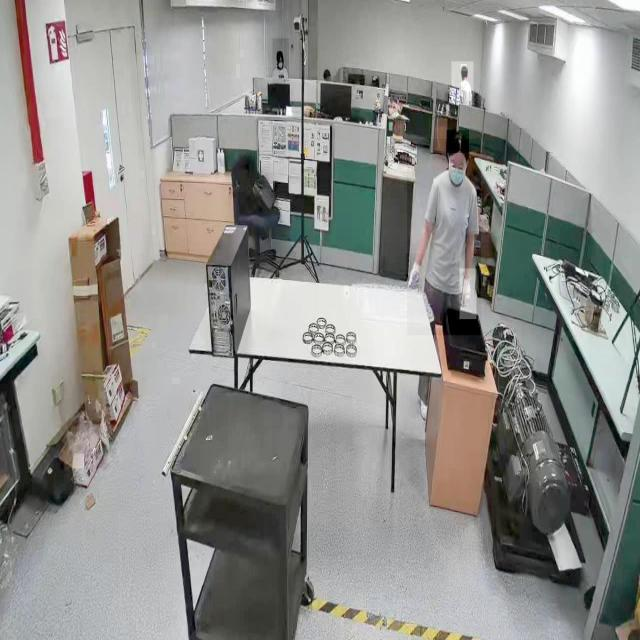face_mask: (444, 147, 472, 193)
hand_glove: (459, 268, 477, 320), (405, 253, 423, 290)
head_nohelmet: (446, 130, 469, 154), (460, 64, 468, 72)
person: (407, 139, 481, 336), (452, 61, 474, 106), (272, 38, 290, 84)
